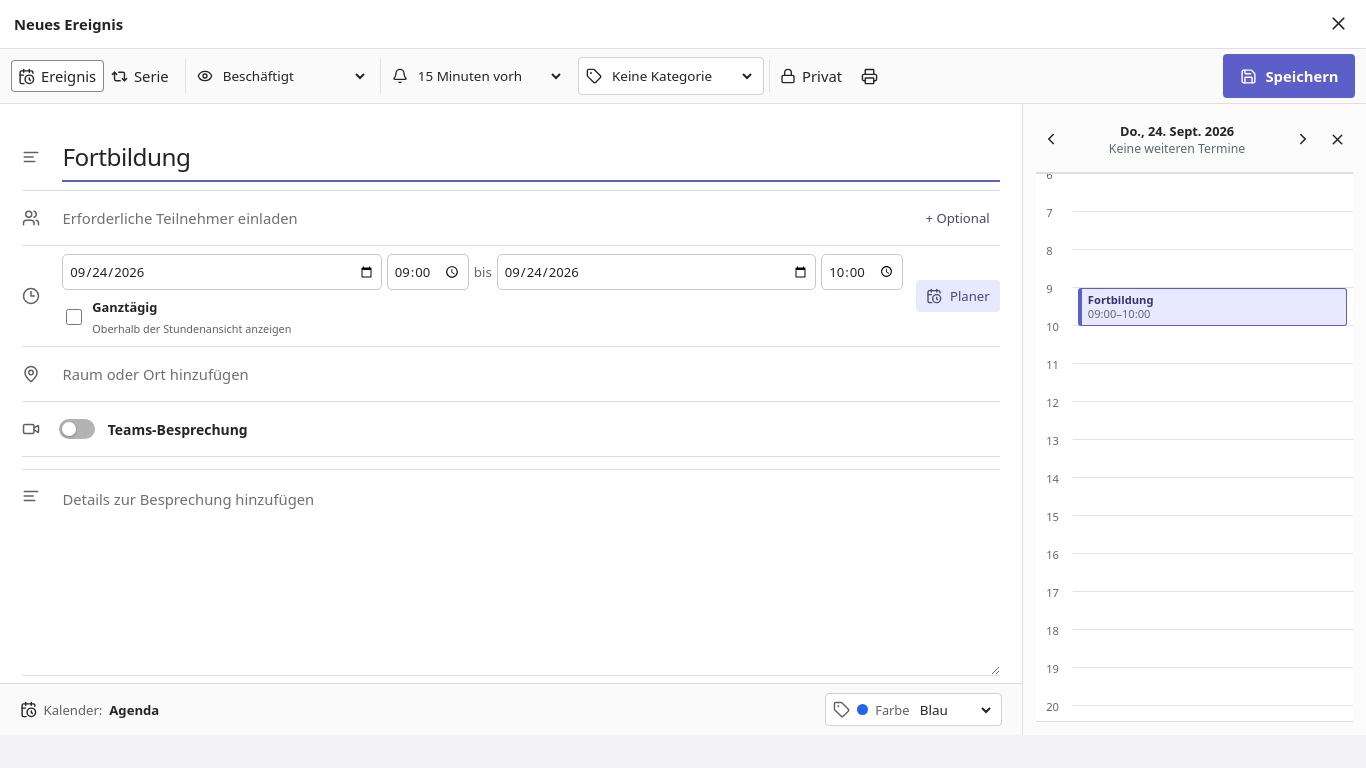
Scenario: CalendarEventForm › converte um compromisso em evento de dia inteiro e o mostra na faixa limpa do planejador
Click the checkbox labelled "Ganztägig Oberhalb der Stundenansicht anzeigen" at (74, 317), box [66,299,82,335]
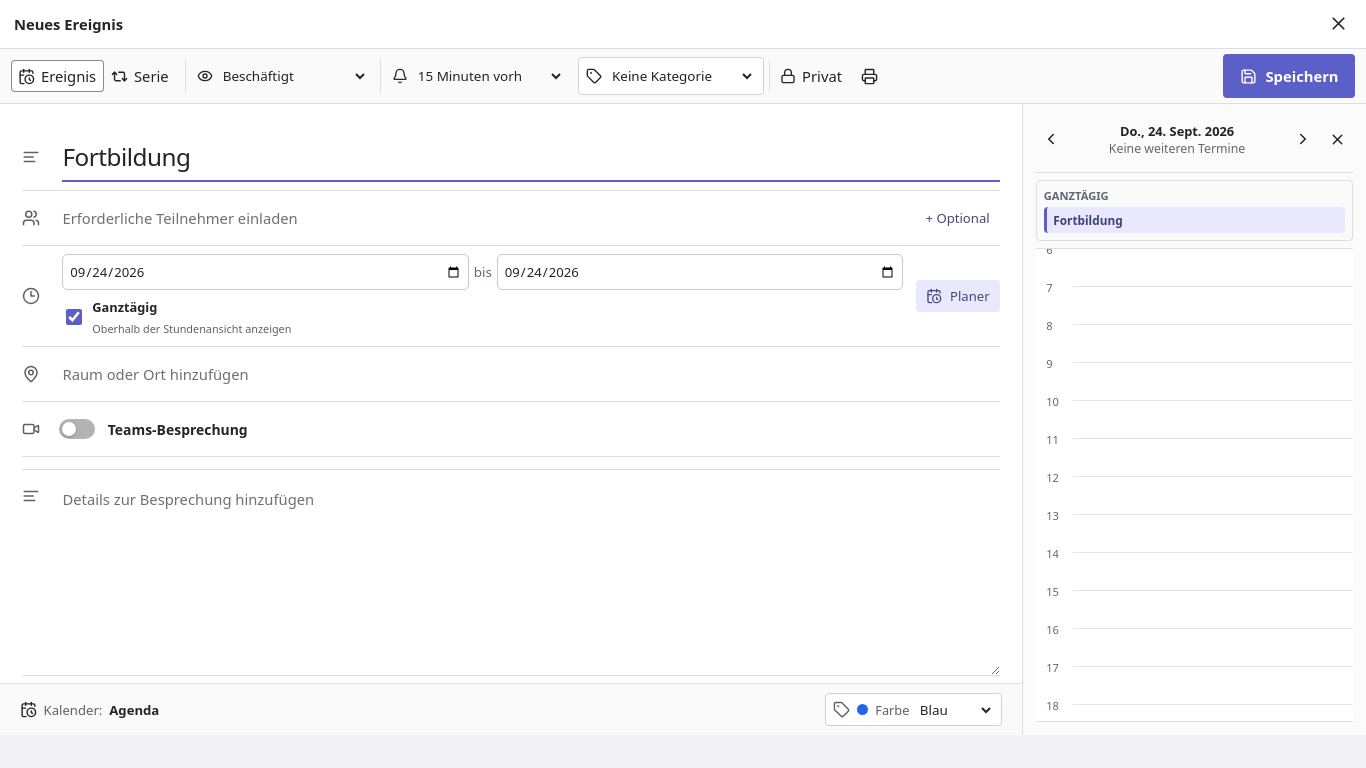
Result: the time field labelled "Startzeit" is gone
Result: the time field labelled "Endzeit" is gone
Result: the element named "Ganztägige Termine" shows "Fortbildung" at [1053,212,1123,228]
